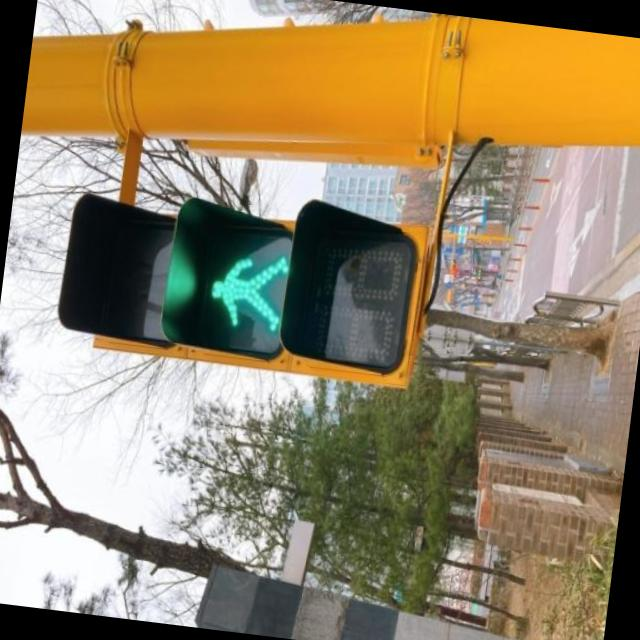green_light: (197, 234, 289, 346)
